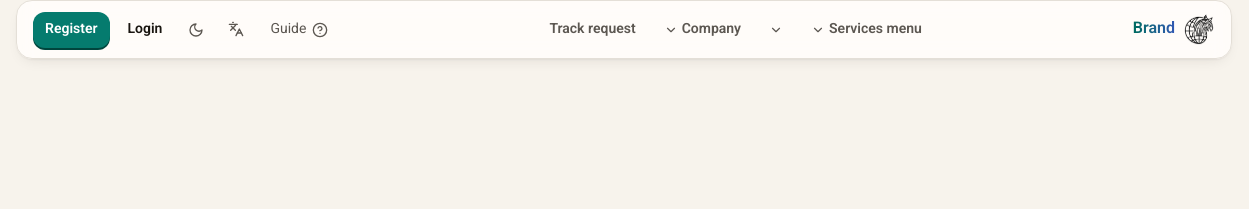
Scenario: FuturisticNavbar › hides menu links until the menu is opened
The width and height of the screenshot is (1249, 209).
Expected: the link "Start a project" is not shown
Click the button "Services menu".
click(866, 30)  # box left=799, top=12, right=934, bottom=48
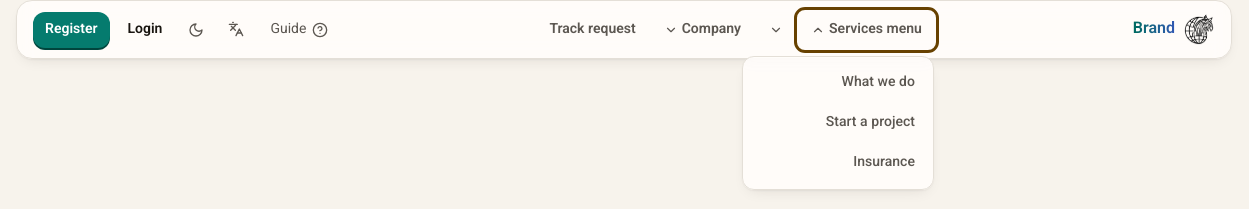
Expected: the link "Start a project" is shown, left=826, top=112, right=915, bottom=134
Expected: the button "Services menu" is expanded, left=799, top=12, right=934, bottom=48
